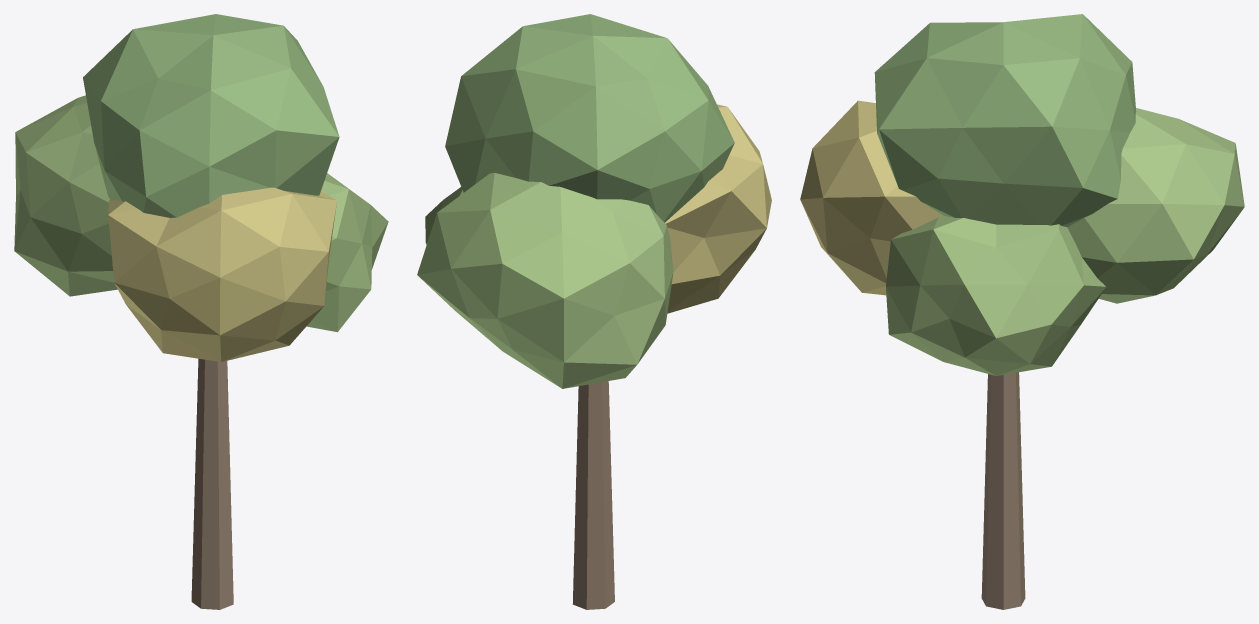
Rendered from node_tree_arid_2.glb.
3 renders of one model, left to right at view 1: azimuth 30°, elevation 25°; view 2: azimuth 150°, elevation 25°; view 3: azimuth 270°, elevation 25°, orthographic. The views are drawn at different scales.
Parts seen in each view (by area): view 1: node_tree_arid_2; view 2: node_tree_arid_2; view 3: node_tree_arid_2.
Boxes of the visible parts, x1,y1,x2,y2 form: node_tree_arid_2: [14, 14, 388, 609]; node_tree_arid_2: [417, 14, 771, 609]; node_tree_arid_2: [800, 14, 1244, 609].
Size of the model in its own units: 3.25 by 5.7 by 3.97.
